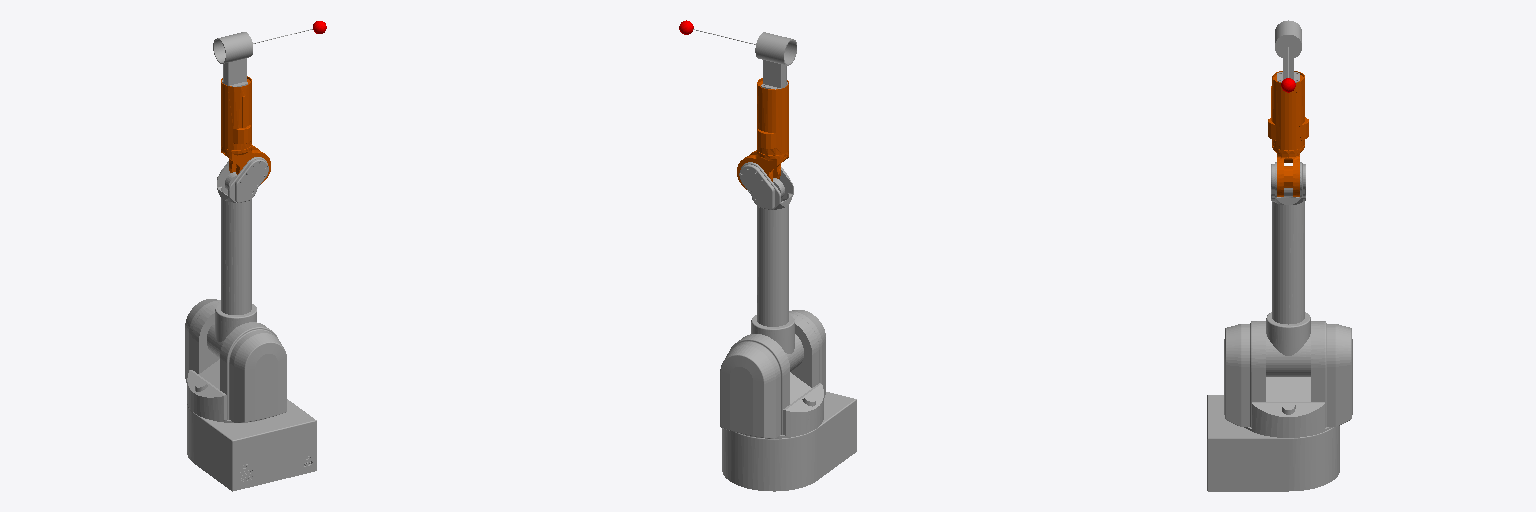
--- Render facts (derived) ---
The picture shows the robot from 3 angles, left to right: view 1: azimuth 30°, elevation 25°; view 2: azimuth 150°, elevation 25°; view 3: azimuth 270°, elevation 25°; orthographic projection.
Robot: wam — 63 links, 62 joints (4 revolute, 54 continuous, 4 fixed); root link world; default pose: every joint at zero.
Visible links, largest first — view 1: shoulder_yaw_link, base_link, upper_arm_link, forearm_link, cup, shoulder_pitch_link; view 2: shoulder_yaw_link, base_link, upper_arm_link, forearm_link, cup, shoulder_pitch_link; view 3: shoulder_yaw_link, base_link, upper_arm_link, forearm_link, shoulder_pitch_link, cup.
Boxes of the visible links, box(x1,y1,x2,y2) form: shoulder_yaw_link: box(185, 299, 286, 422); base_link: box(187, 399, 316, 491); upper_arm_link: box(217, 157, 268, 314); forearm_link: box(221, 76, 270, 183); cup: box(213, 32, 252, 86); shoulder_pitch_link: box(207, 304, 256, 358); shoulder_yaw_link: box(720, 310, 825, 438); base_link: box(722, 392, 856, 491); upper_arm_link: box(739, 162, 793, 326); forearm_link: box(737, 78, 788, 189); cup: box(755, 32, 796, 89); shoulder_pitch_link: box(751, 315, 803, 371); shoulder_yaw_link: box(1224, 321, 1352, 437); base_link: box(1207, 395, 1339, 491); upper_arm_link: box(1271, 162, 1305, 324); forearm_link: box(1268, 71, 1308, 196); shoulder_pitch_link: box(1266, 312, 1310, 376); cup: box(1275, 20, 1301, 82).
Size in the robot's own frame: 0.4356 by 0.3938 by 1.32 metres.
6 mesh visuals loaded from 6 distinct referenced files (6 OBJ).

robot.urdf — wam:
<?xml version="1.0" ?>
<!-- =================================================================================== -->
<!-- |    This document was autogenerated by xacro from wam7.urdf.xacro                | -->
<!-- |    EDITING THIS FILE BY HAND IS NOT RECOMMENDED                                 | -->
<!-- =================================================================================== -->
<robot name="wam" xmlns:xacro="http://www.ros.org/wiki/xacro">

    <!-- Materials -->
    <material name="WAMGrey">
        <color rgba="0.7 0.7 0.7 1.0"/>
    </material>

    <!-- Root link is in the world frame-->
    <link name="world"/>
    <joint name="wam_fixed_joint" type="fixed">
        <parent link="world"/>
        <child link="base_link"/>
        <origin rpy="0 0 1.5707" xyz="0.0 0.0 0.0"/>
    </joint>

    <link name="base_link">
        <inertial>
            <origin rpy="1.57 0 0" xyz="0.0 0.0 0.84"/>
            <mass value="1"/>
            <inertia ixx="0.1" ixy="0" ixz="0" iyy="0.1" iyz="0" izz="0.1"/>
        </inertial>
        <visual>
            <material name="WAMGrey">
                <color rgba="0.7 0.7 0.7 0.0"/>
            </material>
            <geometry>
                <mesh filename="sw_meshes/base_link_fine.obj"/>
            </geometry>
        </visual>
        <collision>
            <geometry>
                <mesh filename="sw_meshes/base_link_convex.obj"/>
            </geometry>
        </collision>
    </link>
    <joint name="R_SFE" type="revolute">
        <parent link="base_link"/>
        <child link="shoulder_yaw_link"/>
        <origin rpy="0 0 -1.57079632679" xyz="0 0 0.346"/>
        <axis xyz="0 0 1"/>
        <limit effort="60" lower="-2.6" upper="2.6" velocity="2.0"/>
        <dynamics damping="0.9" friction="0"/>
    </joint>

    <link name="shoulder_yaw_link">
        <inertial>
            <origin xyz="-.00443422 -.00066489 -0.1289039 "/>
            <mass value="5.0"/>
            <inertia ixx=".13488033" ixy="-0.00012485" ixz="0.00213041" iyy=".09046330" iyz="-.00068555"
                     izz=".11328369"/>
        </inertial>
        <visual>
            <material name="WAMGrey">
                <color rgba="0.7 0.7 0.7 1.0"/>
            </material>
            <geometry>
                <mesh filename="sw_meshes/shoulder_link_fine.obj"/>
            </geometry>
        </visual>
        <collision>
            <geometry>
                <mesh filename="sw_meshes/shoulder_link_convex_decomposition.obj"/>
            </geometry>
        </collision>
    </link>

    <joint name="R_SAA" type="revolute">
        <parent link="shoulder_yaw_link"/>
        <child link="shoulder_pitch_link"/>
        <origin rpy="-1.57079632679 0 0" xyz="0 0 0"/>
        <axis xyz="0 0 1"/>
        <limit effort="60" lower="-2.1" upper="2.0" velocity="2.0"/>
        <dynamics damping="0.25" friction="0"/>
    </joint>

    <link name="shoulder_pitch_link">
        <visual>
            <material name="WAMGrey">
                <color rgba="0.7 0.7 0.7 1.0"/>
            </material>
            <geometry>
                <mesh filename="sw_meshes/shoulder_pitch_link_fine.obj"/>
            </geometry>
        </visual>
        <inertial>
            <origin xyz="-.00236981 -.01542114 .03105614 "/>
            <mass value="3.87493756"/>
            <inertia ixx="0.02140958" ixy="-0.00002461" ixz="0.00027172" iyy="0.015589060" iyz="0.0018192"
                     izz="0.01377875"/>
        </inertial>
        <collision>
            <geometry>
                <mesh filename="sw_meshes/shoulder_pitch_link_convex.obj"/>
            </geometry>
        </collision>
    </link>

    <joint name="R_HR" type="revolute">
        <parent link="shoulder_pitch_link"/>
        <child link="upper_arm_link"/>
        <origin rpy="1.57079632679 0 0" xyz="0 0 0"/>
        <axis xyz="0 0 1"/>
        <limit effort="45" lower="-2.8" upper="2.8" velocity="2.0"/>
        <dynamics damping="0.75" friction="0"/>
    </joint>

    <link name="upper_arm_link">
        <inertial>
            <origin xyz="0.00683258580000000 0.000033090000000 0.392492300000000"/>
            <mass value="2.20228141"/>
            <inertia ixx=".05911077" ixy="-0.00000738" ixz="-0.00249612" iyy="0.05927043" iyz="0.00001767"
                     izz="0.0032455"/>
        </inertial>
        <visual>
            <material name="WAMGrey">
                <color rgba="0.7 0.7 0.7 1.0"/>
            </material>
            <geometry>
                <mesh filename="sw_meshes/upper_arm_link_fine.obj"/>
            </geometry>
        </visual>
        <collision>
            <geometry>
                <mesh filename="sw_meshes/upper_arm_link_convex_decomposition.obj"/>
            </geometry>
        </collision>
    </link>

    <joint name="R_EB" type="revolute">
        <parent link="upper_arm_link"/>
        <child link="forearm_link"/>
        <origin rpy="-1.57079632679 0 0" xyz="0.045 0 0.55"/>
        <axis xyz="0 0 1"/>
        <limit effort="30" lower="-0.9" upper="3.2" velocity="2.00"/>
        <dynamics damping="0.4" friction="0"/>
    </joint>

    <link name="forearm_link">
        <inertial>
            <mass value="1.06513649"/>
            <origin rpy="1.5707 0 0" xyz="0.01095471 0.14053900 -0.00002567"/>
            <inertia ixx="0.03952350" ixy="0.00000189" ixz="0.00003117" iyy="0.04008214" iyz="0.00000131"
                     izz="0.00210299"/>
        </inertial>
        <visual>
            <origin rpy="0 0 0" xyz="0 0 0"/>
            <geometry name="link_j4_visual">
                <mesh filename="sw_meshes/wam4.obj"/>
            </geometry>
        </visual>
        <collision>
            <origin rpy="1.5707 0 0" xyz="0 0 0"/>
            <geometry name="link_j4_collision">
                <mesh filename="sw_meshes/wam4.obj"/>
            </geometry>
            <contact_coefficients kd="1000.0" kp="1000.0" mu="0"/>
        </collision>
    </link>

    <joint name="FOREARM_TO_CUP" type="fixed">
        <parent link="forearm_link"/>
        <child link="cup"/>
        <origin xyz="-0.1 -0.3225 0.0"/>
    </joint>

    <link name="cup">
        <inertial>
            <mass value="0.132"/>
            <origin xyz="-3.75236e-10 8.27811e-05 0.0947015" rpy="0.0 -0.0199993 0.0"/>
            <inertia ixx="0.000285643" ixy="0.0" ixz="0.0" iyy="0.000270485" iyz="0.0" izz="9.65696e-05"/>
        </inertial>
        <visual>
            <origin rpy="1.5707 -1.5707 0" xyz="0. 0. 0."/>
            <material name="WAMGrey">
                <color rgba="0.7 0.7 0.7 1.0"/>
            </material>
            <geometry name="cup_visual">
                <mesh filename="sw_meshes/cup.obj" scale="0.001 0.001 0.001"/>
            </geometry>
        </visual>
        <collision>
            <origin rpy="1.5707 -1.5707 0" xyz="0 0 0"/>
            <geometry name="cup_collision">
                <mesh filename="sw_meshes/cup.obj" scale="0.001 0.001 0.001"/>
            </geometry>
        </collision>
    </link>

    <joint name="attach" type="fixed">
        <origin xyz="0.09 -0.06 0.0" rpy="0 -1.5707 0"/>
        <parent link="cup"/>
        <child link="R0"/>
    </joint>

    <link name="R0">
        <inertial>
            <mass value="0.0003"/>
            <origin xyz="0. 0. -8.600E-03" rpy="0. 0. 0."/>
            <inertia ixx="7.471E-09" ixy="0.0" ixz="0.0" iyy="7.471E-09" iyz="0.0" izz="1.500E-10"/>
        </inertial>
        <visual>
            <material name="WAMGrey">
                <color rgba="0.7 0.7 0.7 1.0"/>
            </material>
            <origin xyz="0.0 0.0 -8.600E-03"/>
            <geometry>
                <cylinder radius="0.001" length="0.0172"/>
            </geometry>
        </visual>
        <collision>
            <origin xyz="0.0 0.0 -8.600E-03"/>
            <geometry>
                <cylinder radius="0.001" length="0.0172"/>
            </geometry>
        </collision>
    </link>
    <joint name="R0_1_FIX" type="continuous">
        <origin xyz="0. 0.0 -8.600E-03" rpy="0 0 0"/>
        <axis xyz="1 0 0"/>
        <parent link="R0"/>
        <child link="R0_FIX"/>
    </joint>
    <link name="R0_FIX"/>
    <joint name="R0_1" type="continuous">
        <origin xyz="0. 0.0 0." rpy="0 0 0"/>
        <axis xyz="0 1 0"/>
        <parent link="R0_FIX"/>
        <child link="R1"/>
    </joint>
    <link name="R1">
        <inertial>
            <mass value="0.0003"/>
            <origin xyz="0. 0. -8.600E-03" rpy="0. 0. 0."/>
            <inertia ixx="7.471E-09" ixy="0.0" ixz="0.0" iyy="7.471E-09" iyz="0.0" izz="1.500E-10"/>
        </inertial>
        <visual>
            <material name="WAMGrey">
                <color rgba="0.7 0.7 0.7 1.0"/>
            </material>
            <origin xyz="0.0 0.0 -8.600E-03"/>
            <geometry>
                <cylinder radius="0.001" length="0.0172"/>
            </geometry>
        </visual>
        <collision>
            <origin xyz="0.0 0.0 -8.600E-03"/>
            <geometry>
                <cylinder radius="0.001" length="0.0172"/>
            </geometry>
        </collision>
    </link>
    <joint name="R1_2_FIX" type="continuous">
        <origin xyz="0. 0.0 -8.600E-03" rpy="0 0 0"/>
        <axis xyz="1 0 0"/>
        <parent link="R1"/>
        <child link="R1_FIX"/>
    </joint>
    <link name="R1_FIX"/>
    <joint name="R1_2" type="continuous">
        <origin xyz="0. 0.0 0." rpy="0 0 0"/>
        <axis xyz="0 1 0"/>
        <parent link="R1_FIX"/>
        <child link="R2"/>
    </joint>
    <link name="R2">
        <inertial>
            <mass value="0.0003"/>
            <origin xyz="0. 0. -8.600E-03" rpy="0. 0. 0."/>
            <inertia ixx="7.471E-09" ixy="0.0" ixz="0.0" iyy="7.471E-09" iyz="0.0" izz="1.500E-10"/>
        </inertial>
        <visual>
            <material name="WAMGrey">
                <color rgba="0.7 0.7 0.7 1.0"/>
            </material>
            <origin xyz="0.0 0.0 -8.600E-03"/>
            <geometry>
                <cylinder radius="0.001" length="0.0172"/>
            </geometry>
        </visual>
        <collision>
            <origin xyz="0.0 0.0 -8.600E-03"/>
            <geometry>
                <cylinder radius="0.001" length="0.0172"/>
            </geometry>
        </collision>
    </link>
    <joint name="R2_3_FIX" type="continuous">
        <origin xyz="0. 0.0 -8.600E-03" rpy="0 0 0"/>
        <axis xyz="1 0 0"/>
        <parent link="R2"/>
        <child link="R2_FIX"/>
    </joint>
    <link name="R2_FIX"/>
    <joint name="R2_3" type="continuous">
        <origin xyz="0. 0.0 0." rpy="0 0 0"/>
        <axis xyz="0 1 0"/>
        <parent link="R2_FIX"/>
        <child link="R3"/>
    </joint>
    <link name="R3">
        <inertial>
            <mass value="0.0003"/>
            <origin xyz="0. 0. -8.600E-03" rpy="0. 0. 0."/>
            <inertia ixx="7.471E-09" ixy="0.0" ixz="0.0" iyy="7.471E-09" iyz="0.0" izz="1.500E-10"/>
        </inertial>
        <visual>
            <material name="WAMGrey">
                <color rgba="0.7 0.7 0.7 1.0"/>
            </material>
            <origin xyz="0.0 0.0 -8.600E-03"/>
            <geometry>
                <cylinder radius="0.001" length="0.0172"/>
            </geometry>
        </visual>
        <collision>
            <origin xyz="0.0 0.0 -8.600E-03"/>
            <geometry>
                <cylinder radius="0.001" length="0.0172"/>
            </geometry>
        </collision>
    </link>
    <joint name="R3_4_FIX" type="continuous">
        <origin xyz="0. 0.0 -8.600E-03" rpy="0 0 0"/>
        <axis xyz="1 0 0"/>
        <parent link="R3"/>
        <child link="R3_FIX"/>
    </joint>
    <link name="R3_FIX"/>
    <joint name="R3_4" type="continuous">
        <origin xyz="0. 0.0 0." rpy="0 0 0"/>
        <axis xyz="0 1 0"/>
        <parent link="R3_FIX"/>
        <child link="R4"/>
    </joint>
    <link name="R4">
        <inertial>
            <mass value="0.0003"/>
            <origin xyz="0. 0. -8.600E-03" rpy="0. 0. 0."/>
            <inertia ixx="7.471E-09" ixy="0.0" ixz="0.0" iyy="7.471E-09" iyz="0.0" izz="1.500E-10"/>
        </inertial>
        <visual>
            <material name="WAMGrey">
                <color rgba="0.7 0.7 0.7 1.0"/>
            </material>
            <origin xyz="0.0 0.0 -8.600E-03"/>
            <geometry>
                <cylinder radius="0.001" length="0.0172"/>
            </geometry>
        </visual>
        <collision>
            <origin xyz="0.0 0.0 -8.600E-03"/>
            <geometry>
                <cylinder radius="0.001" length="0.0172"/>
            </geometry>
        </collision>
    </link>
    <joint name="R4_5_FIX" type="continuous">
        <origin xyz="0. 0.0 -8.600E-03" rpy="0 0 0"/>
        <axis xyz="1 0 0"/>
        <parent link="R4"/>
        <child link="R4_FIX"/>
    </joint>
    <link name="R4_FIX"/>
    <joint name="R4_5" type="continuous">
        <origin xyz="0. 0.0 0." rpy="0 0 0"/>
        <axis xyz="0 1 0"/>
        <parent link="R4_FIX"/>
        <child link="R5"/>
    </joint>
    <link name="R5">
        <inertial>
            <mass value="0.0003"/>
            <origin xyz="0. 0. -8.600E-03" rpy="0. 0. 0."/>
            <inertia ixx="7.471E-09" ixy="0.0" ixz="0.0" iyy="7.471E-09" iyz="0.0" izz="1.500E-10"/>
        </inertial>
        <visual>
            <material name="WAMGrey">
                <color rgba="0.7 0.7 0.7 1.0"/>
            </material>
            <origin xyz="0.0 0.0 -8.600E-03"/>
            <geometry>
                <cylinder radius="0.001" length="0.0172"/>
            </geometry>
        </visual>
        <collision>
            <origin xyz="0.0 0.0 -8.600E-03"/>
            <geometry>
                <cylinder radius="0.001" length="0.0172"/>
            </geometry>
        </collision>
    </link>
    <joint name="R5_6_FIX" type="continuous">
        <origin xyz="0. 0.0 -8.600E-03" rpy="0 0 0"/>
        <axis xyz="1 0 0"/>
        <parent link="R5"/>
        <child link="R5_FIX"/>
    </joint>
    <link name="R5_FIX"/>
    <joint name="R5_6" type="continuous">
        <origin xyz="0. 0.0 0." rpy="0 0 0"/>
        <axis xyz="0 1 0"/>
        <parent link="R5_FIX"/>
        <child link="R6"/>
    </joint>
    <link name="R6">
        <inertial>
            <mass value="0.0003"/>
            <origin xyz="0. 0. -8.600E-03" rpy="0. 0. 0."/>
            <inertia ixx="7.471E-09" ixy="0.0" ixz="0.0" iyy="7.471E-09" iyz="0.0" izz="1.500E-10"/>
        </inertial>
        <visual>
            <material name="WAMGrey">
                <color rgba="0.7 0.7 0.7 1.0"/>
            </material>
            <origin xyz="0.0 0.0 -8.600E-03"/>
            <geometry>
                <cylinder radius="0.001" length="0.0172"/>
            </geometry>
        </visual>
        <collision>
            <origin xyz="0.0 0.0 -8.600E-03"/>
            <geometry>
                <cylinder radius="0.001" length="0.0172"/>
            </geometry>
        </collision>
    </link>
    <joint name="R6_7_FIX" type="continuous">
        <origin xyz="0. 0.0 -8.600E-03" rpy="0 0 0"/>
        <axis xyz="1 0 0"/>
        <parent link="R6"/>
        <child link="R6_FIX"/>
    </joint>
    <link name="R6_FIX"/>
    <joint name="R6_7" type="continuous">
        <origin xyz="0. 0.0 0." rpy="0 0 0"/>
        <axis xyz="0 1 0"/>
        <parent link="R6_FIX"/>
        <child link="R7"/>
    </joint>
    <link name="R7">
        <inertial>
            <mass value="0.0003"/>
            <origin xyz="0. 0. -8.600E-03" rpy="0. 0. 0."/>
            <inertia ixx="7.471E-09" ixy="0.0" ixz="0.0" iyy="7.471E-09" iyz="0.0" izz="1.500E-10"/>
        </inertial>
        <visual>
            <material name="WAMGrey">
                <color rgba="0.7 0.7 0.7 1.0"/>
            </material>
            <origin xyz="0.0 0.0 -8.600E-03"/>
            <geometry>
                <cylinder radius="0.001" length="0.0172"/>
            </geometry>
        </visual>
        <collision>
            <origin xyz="0.0 0.0 -8.600E-03"/>
            <geometry>
                <cylinder radius="0.001" length="0.0172"/>
            </geometry>
        </collision>
    </link>
    <joint name="R7_8_FIX" type="continuous">
        <origin xyz="0. 0.0 -8.600E-03" rpy="0 0 0"/>
        <axis xyz="1 0 0"/>
        <parent link="R7"/>
        <child link="R7_FIX"/>
    </joint>
    <link name="R7_FIX"/>
    <joint name="R7_8" type="continuous">
        <origin xyz="0. 0.0 0." rpy="0 0 0"/>
        <axis xyz="0 1 0"/>
        <parent link="R7_FIX"/>
        <child link="R8"/>
    </joint>
    <link name="R8">
        <inertial>
            <mass value="0.0003"/>
            <origin xyz="0. 0. -8.600E-03" rpy="0. 0. 0."/>
            <inertia ixx="7.471E-09" ixy="0.0" ixz="0.0" iyy="7.471E-09" iyz="0.0" izz="1.500E-10"/>
        </inertial>
        <visual>
            <material name="WAMGrey">
                <color rgba="0.7 0.7 0.7 1.0"/>
            </material>
            <origin xyz="0.0 0.0 -8.600E-03"/>
            <geometry>
                <cylinder radius="0.001" length="0.0172"/>
            </geometry>
        </visual>
        <collision>
            <origin xyz="0.0 0.0 -8.600E-03"/>
            <geometry>
                <cylinder radius="0.001" length="0.0172"/>
            </geometry>
        </collision>
    </link>
    <joint name="R8_9_FIX" type="continuous">
        <origin xyz="0. 0.0 -8.600E-03" rpy="0 0 0"/>
        <axis xyz="1 0 0"/>
        <parent link="R8"/>
        <child link="R8_FIX"/>
    </joint>
    <link name="R8_FIX"/>
    <joint name="R8_9" type="continuous">
        <origin xyz="0. 0.0 0." rpy="0 0 0"/>
        <axis xyz="0 1 0"/>
        <parent link="R8_FIX"/>
        <child link="R9"/>
    </joint>
    <link name="R9">
        <inertial>
            <mass value="0.0003"/>
            <origin xyz="0. 0. -8.600E-03" rpy="0. 0. 0."/>
            <inertia ixx="7.471E-09" ixy="0.0" ixz="0.0" iyy="7.471E-09" iyz="0.0" izz="1.500E-10"/>
        </inertial>
        <visual>
            <material name="WAMGrey">
                <color rgba="0.7 0.7 0.7 1.0"/>
            </material>
            <origin xyz="0.0 0.0 -8.600E-03"/>
            <geometry>
                <cylinder radius="0.001" length="0.0172"/>
            </geometry>
        </visual>
        <collision>
            <origin xyz="0.0 0.0 -8.600E-03"/>
            <geometry>
                <cylinder radius="0.001" length="0.0172"/>
            </geometry>
        </collision>
    </link>
    <joint name="R9_10_FIX" type="continuous">
        <origin xyz="0. 0.0 -8.600E-03" rpy="0 0 0"/>
        <axis xyz="1 0 0"/>
        <parent link="R9"/>
        <child link="R9_FIX"/>
    </joint>
    <link name="R9_FIX"/>
    <joint name="R9_10" type="continuous">
        <origin xyz="0. 0.0 0." rpy="0 0 0"/>
        <axis xyz="0 1 0"/>
        <parent link="R9_FIX"/>
        <child link="R10"/>
    </joint>
    <link name="R10">
        <inertial>
            <mass value="0.0003"/>
            <origin xyz="0. 0. -8.600E-03" rpy="0. 0. 0."/>
            <inertia ixx="7.471E-09" ixy="0.0" ixz="0.0" iyy="7.471E-09" iyz="0.0" izz="1.500E-10"/>
        </inertial>
        <visual>
            <material name="WAMGrey">
                <color rgba="0.7 0.7 0.7 1.0"/>
            </material>
            <origin xyz="0.0 0.0 -8.600E-03"/>
            <geometry>
                <cylinder radius="0.001" length="0.0172"/>
            </geometry>
        </visual>
        <collision>
            <origin xyz="0.0 0.0 -8.600E-03"/>
            <geometry>
                <cylinder radius="0.001" length="0.0172"/>
            </geometry>
        </collision>
    </link>
    <joint name="R10_11_FIX" type="continuous">
        <origin xyz="0. 0.0 -8.600E-03" rpy="0 0 0"/>
        <axis xyz="1 0 0"/>
        <parent link="R10"/>
        <child link="R10_FIX"/>
    </joint>
    <link name="R10_FIX"/>
    <joint name="R10_11" type="continuous">
        <origin xyz="0. 0.0 0." rpy="0 0 0"/>
        <axis xyz="0 1 0"/>
        <parent link="R10_FIX"/>
        <child link="R11"/>
    </joint>
    <link name="R11">
        <inertial>
            <mass value="0.0003"/>
            <origin xyz="0. 0. -8.600E-03" rpy="0. 0. 0."/>
            <inertia ixx="7.471E-09" ixy="0.0" ixz="0.0" iyy="7.471E-09" iyz="0.0" izz="1.500E-10"/>
        </inertial>
        <visual>
            <material name="WAMGrey">
                <color rgba="0.7 0.7 0.7 1.0"/>
            </material>
            <origin xyz="0.0 0.0 -8.600E-03"/>
            <geometry>
                <cylinder radius="0.001" length="0.0172"/>
            </geometry>
        </visual>
        <collision>
            <origin xyz="0.0 0.0 -8.600E-03"/>
            <geometry>
                <cylinder radius="0.001" length="0.0172"/>
            </geometry>
        </collision>
    </link>
    <joint name="R11_12_FIX" type="continuous">
        <origin xyz="0. 0.0 -8.600E-03" rpy="0 0 0"/>
        <axis xyz="1 0 0"/>
        <parent link="R11"/>
        <child link="R11_FIX"/>
    </joint>
    <link name="R11_FIX"/>
    <joint name="R11_12" type="continuous">
        <origin xyz="0. 0.0 0." rpy="0 0 0"/>
        <axis xyz="0 1 0"/>
        <parent link="R11_FIX"/>
        <child link="R12"/>
    </joint>
    <link name="R12">
        <inertial>
            <mass value="0.0003"/>
            <origin xyz="0. 0. -8.600E-03" rpy="0. 0. 0."/>
            <inertia ixx="7.471E-09" ixy="0.0" ixz="0.0" iyy="7.471E-09" iyz="0.0" izz="1.500E-10"/>
        </inertial>
        <visual>
            <material name="WAMGrey">
                <color rgba="0.7 0.7 0.7 1.0"/>
            </material>
            <origin xyz="0.0 0.0 -8.600E-03"/>
            <geometry>
                <cylinder radius="0.001" length="0.0172"/>
            </geometry>
        </visual>
        <collision>
            <origin xyz="0.0 0.0 -8.600E-03"/>
            <geometry>
                <cylinder radius="0.001" length="0.0172"/>
            </geometry>
        </collision>
    </link>
    <joint name="R12_13_FIX" type="continuous">
        <origin xyz="0. 0.0 -8.600E-03" rpy="0 0 0"/>
        <axis xyz="1 0 0"/>
        <parent link="R12"/>
        <child link="R12_FIX"/>
    </joint>
    <link name="R12_FIX"/>
    <joint name="R12_13" type="continuous">
        <origin xyz="0. 0.0 0." rpy="0 0 0"/>
        <axis xyz="0 1 0"/>
        <parent link="R12_FIX"/>
        <child link="R13"/>
    </joint>
    <link name="R13">
        <inertial>
            <mass value="0.0003"/>
            <origin xyz="0. 0. -8.600E-03" rpy="0. 0. 0."/>
            <inertia ixx="7.471E-09" ixy="0.0" ixz="0.0" iyy="7.471E-09" iyz="0.0" izz="1.500E-10"/>
        </inertial>
        <visual>
            <material name="WAMGrey">
                <color rgba="0.7 0.7 0.7 1.0"/>
            </material>
            <origin xyz="0.0 0.0 -8.600E-03"/>
            <geometry>
                <cylinder radius="0.001" length="0.0172"/>
            </geometry>
        </visual>
        <collision>
            <origin xyz="0.0 0.0 -8.600E-03"/>
            <geometry>
                <cylinder radius="0.001" length="0.0172"/>
            </geometry>
        </collision>
    </link>
    <joint name="R13_14_FIX" type="continuous">
        <origin xyz="0. 0.0 -8.600E-03" rpy="0 0 0"/>
        <axis xyz="1 0 0"/>
        <parent link="R13"/>
        <child link="R13_FIX"/>
    </joint>
    <link name="R13_FIX"/>
    <joint name="R13_14" type="continuous">
        <origin xyz="0. 0.0 0." rpy="0 0 0"/>
        <axis xyz="0 1 0"/>
        <parent link="R13_FIX"/>
        <child link="R14"/>
    </joint>
    <link name="R14">
        <inertial>
            <mass value="0.0003"/>
            <origin xyz="0. 0. -8.600E-03" rpy="0. 0. 0."/>
            <inertia ixx="7.471E-09" ixy="0.0" ixz="0.0" iyy="7.471E-09" iyz="0.0" izz="1.500E-10"/>
        </inertial>
        <visual>
            <material name="WAMGrey">
                <color rgba="0.7 0.7 0.7 1.0"/>
            </material>
            <origin xyz="0.0 0.0 -8.600E-03"/>
            <geometry>
                <cylinder radius="0.001" length="0.0172"/>
            </geometry>
        </visual>
        <collision>
            <origin xyz="0.0 0.0 -8.600E-03"/>
            <geometry>
                <cylinder radius="0.001" length="0.0172"/>
            </geometry>
        </collision>
    </link>
    <joint name="R14_15_FIX" type="continuous">
        <origin xyz="0. 0.0 -8.600E-03" rpy="0 0 0"/>
        <axis xyz="1 0 0"/>
        <parent link="R14"/>
        <child link="R14_FIX"/>
    </joint>
    <link name="R14_FIX"/>
    <joint name="R14_15" type="continuous">
        <origin xyz="0. 0.0 0." rpy="0 0 0"/>
        <axis xyz="0 1 0"/>
        <parent link="R14_FIX"/>
        <child link="R15"/>
    </joint>
    <link name="R15">
        <inertial>
            <mass value="0.0003"/>
            <origin xyz="0. 0. -8.600E-03" rpy="0. 0. 0."/>
            <inertia ixx="7.471E-09" ixy="0.0" ixz="0.0" iyy="7.471E-09" iyz="0.0" izz="1.500E-10"/>
        </inertial>
        <visual>
            <material name="WAMGrey">
                <color rgba="0.7 0.7 0.7 1.0"/>
            </material>
            <origin xyz="0.0 0.0 -8.600E-03"/>
            <geometry>
                <cylinder radius="0.001" length="0.0172"/>
            </geometry>
        </visual>
        <collision>
            <origin xyz="0.0 0.0 -8.600E-03"/>
            <geometry>
                <cylinder radius="0.001" length="0.0172"/>
            </geometry>
        </collision>
    </link>
    <joint name="R15_16_FIX" type="continuous">
        <origin xyz="0. 0.0 -8.600E-03" rpy="0 0 0"/>
        <axis xyz="1 0 0"/>
        <parent link="R15"/>
        <child link="R15_FIX"/>
    </joint>
    <link name="R15_FIX"/>
    <joint name="R15_16" type="continuous">
        <origin xyz="0. 0.0 0." rpy="0 0 0"/>
        <axis xyz="0 1 0"/>
        <parent link="R15_FIX"/>
        <child link="R16"/>
    </joint>
    <link name="R16">
        <inertial>
            <mass value="0.0003"/>
            <origin xyz="0. 0. -8.600E-03" rpy="0. 0. 0."/>
            <inertia ixx="7.471E-09" ixy="0.0" ixz="0.0" iyy="7.471E-09" iyz="0.0" izz="1.500E-10"/>
        </inertial>
        <visual>
            <material name="WAMGrey">
                <color rgba="0.7 0.7 0.7 1.0"/>
            </material>
            <origin xyz="0.0 0.0 -8.600E-03"/>
            <geometry>
                <cylinder radius="0.001" length="0.0172"/>
            </geometry>
        </visual>
        <collision>
            <origin xyz="0.0 0.0 -8.600E-03"/>
            <geometry>
                <cylinder radius="0.001" length="0.0172"/>
            </geometry>
        </collision>
    </link>
    <joint name="R16_17_FIX" type="continuous">
        <origin xyz="0. 0.0 -8.600E-03" rpy="0 0 0"/>
        <axis xyz="1 0 0"/>
        <parent link="R16"/>
        <child link="R16_FIX"/>
    </joint>
    <link name="R16_FIX"/>
    <joint name="R16_17" type="continuous">
        <origin xyz="0. 0.0 0." rpy="0 0 0"/>
        <axis xyz="0 1 0"/>
        <parent link="R16_FIX"/>
        <child link="R17"/>
    </joint>
    <link name="R17">
        <inertial>
            <mass value="0.0003"/>
            <origin xyz="0. 0. -8.600E-03" rpy="0. 0. 0."/>
            <inertia ixx="7.471E-09" ixy="0.0" ixz="0.0" iyy="7.471E-09" iyz="0.0" izz="1.500E-10"/>
        </inertial>
        <visual>
            <material name="WAMGrey">
                <color rgba="0.7 0.7 0.7 1.0"/>
            </material>
            <origin xyz="0.0 0.0 -8.600E-03"/>
            <geometry>
                <cylinder radius="0.001" length="0.0172"/>
            </geometry>
        </visual>
        <collision>
            <origin xyz="0.0 0.0 -8.600E-03"/>
            <geometry>
                <cylinder radius="0.001" length="0.0172"/>
            </geometry>
        </collision>
    </link>
    <joint name="R17_18_FIX" type="continuous">
        <origin xyz="0. 0.0 -8.600E-03" rpy="0 0 0"/>
        <axis xyz="1 0 0"/>
        <parent link="R17"/>
        <child link="R17_FIX"/>
    </joint>
    <link name="R17_FIX"/>
    <joint name="R17_18" type="continuous">
        <origin xyz="0. 0.0 0." rpy="0 0 0"/>
        <axis xyz="0 1 0"/>
        <parent link="R17_FIX"/>
        <child link="R18"/>
    </joint>
    <link name="R18">
        <inertial>
            <mass value="0.0003"/>
            <origin xyz="0. 0. -8.600E-03" rpy="0. 0. 0."/>
            <inertia ixx="7.471E-09" ixy="0.0" ixz="0.0" iyy="7.471E-09" iyz="0.0" izz="1.500E-10"/>
        </inertial>
        <visual>
            <material name="WAMGrey">
                <color rgba="0.7 0.7 0.7 1.0"/>
            </material>
            <origin xyz="0.0 0.0 -8.600E-03"/>
            <geometry>
                <cylinder radius="0.001" length="0.0172"/>
            </geometry>
        </visual>
        <collision>
            <origin xyz="0.0 0.0 -8.600E-03"/>
            <geometry>
                <cylinder radius="0.001" length="0.0172"/>
            </geometry>
        </collision>
    </link>
    <joint name="R18_19_FIX" type="continuous">
        <origin xyz="0. 0.0 -8.600E-03" rpy="0 0 0"/>
        <axis xyz="1 0 0"/>
        <parent link="R18"/>
        <child link="R18_FIX"/>
    </joint>
    <link name="R18_FIX"/>
    <joint name="R18_19" type="continuous">
        <origin xyz="0. 0.0 0." rpy="0 0 0"/>
        <axis xyz="0 1 0"/>
        <parent link="R18_FIX"/>
        <child link="R19"/>
    </joint>
    <link name="R19">
        <inertial>
            <mass value="0.0003"/>
            <origin xyz="0. 0. -8.600E-03" rpy="0. 0. 0."/>
            <inertia ixx="7.471E-09" ixy="0.0" ixz="0.0" iyy="7.471E-09" iyz="0.0" izz="1.500E-10"/>
        </inertial>
        <visual>
            <material name="WAMGrey">
                <color rgba="0.7 0.7 0.7 1.0"/>
            </material>
            <origin xyz="0.0 0.0 -8.600E-03"/>
            <geometry>
                <cylinder radius="0.001" length="0.0172"/>
            </geometry>
        </visual>
        <collision>
            <origin xyz="0.0 0.0 -8.600E-03"/>
            <geometry>
                <cylinder radius="0.001" length="0.0172"/>
            </geometry>
        </collision>
    </link>
    <joint name="R19_20_FIX" type="continuous">
        <origin xyz="0. 0.0 -8.600E-03" rpy="0 0 0"/>
        <axis xyz="1 0 0"/>
        <parent link="R19"/>
        <child link="R19_FIX"/>
    </joint>
    <link name="R19_FIX"/>
    <joint name="R19_20" type="continuous">
        <origin xyz="0. 0.0 0." rpy="0 0 0"/>
        <axis xyz="0 1 0"/>
        <parent link="R19_FIX"/>
        <child link="R20"/>
    </joint>
    <link name="R20">
        <inertial>
            <mass value="0.0003"/>
            <origin xyz="0. 0. -8.600E-03" rpy="0. 0. 0."/>
            <inertia ixx="7.471E-09" ixy="0.0" ixz="0.0" iyy="7.471E-09" iyz="0.0" izz="1.500E-10"/>
        </inertial>
        <visual>
            <material name="WAMGrey">
                <color rgba="0.7 0.7 0.7 1.0"/>
            </material>
            <origin xyz="0.0 0.0 -8.600E-03"/>
            <geometry>
                <cylinder radius="0.001" length="0.0172"/>
            </geometry>
        </visual>
        <collision>
            <origin xyz="0.0 0.0 -8.600E-03"/>
            <geometry>
                <cylinder radius="0.001" length="0.0172"/>
            </geometry>
        </collision>
    </link>
    <joint name="R20_21_FIX" type="continuous">
        <origin xyz="0. 0.0 -8.600E-03" rpy="0 0 0"/>
        <axis xyz="1 0 0"/>
        <parent link="R20"/>
        <child link="R20_FIX"/>
    </joint>
    <link name="R20_FIX"/>
    <joint name="R20_21" type="continuous">
        <origin xyz="0. 0.0 0." rpy="0 0 0"/>
        <axis xyz="0 1 0"/>
        <parent link="R20_FIX"/>
        <child link="R21"/>
    </joint>
    <link name="R21">
        <inertial>
            <mass value="0.0003"/>
            <origin xyz="0. 0. -8.600E-03" rpy="0. 0. 0."/>
            <inertia ixx="7.471E-09" ixy="0.0" ixz="0.0" iyy="7.471E-09" iyz="0.0" izz="1.500E-10"/>
        </inertial>
        <visual>
            <material name="WAMGrey">
                <color rgba="0.7 0.7 0.7 1.0"/>
            </material>
            <origin xyz="0.0 0.0 -8.600E-03"/>
            <geometry>
                <cylinder radius="0.001" length="0.0172"/>
            </geometry>
        </visual>
        <collision>
            <origin xyz="0.0 0.0 -8.600E-03"/>
            <geometry>
                <cylinder radius="0.001" length="0.0172"/>
            </geometry>
        </collision>
    </link>
    <joint name="R21_22_FIX" type="continuous">
        <origin xyz="0. 0.0 -8.600E-03" rpy="0 0 0"/>
        <axis xyz="1 0 0"/>
        <parent link="R21"/>
        <child link="R21_FIX"/>
    </joint>
    <link name="R21_FIX"/>
    <joint name="R21_22" type="continuous">
        <origin xyz="0. 0.0 0." rpy="0 0 0"/>
        <axis xyz="0 1 0"/>
        <parent link="R21_FIX"/>
        <child link="R22"/>
    </joint>
    <link name="R22">
        <inertial>
            <mass value="0.0003"/>
            <origin xyz="0. 0. -8.600E-03" rpy="0. 0. 0."/>
            <inertia ixx="7.471E-09" ixy="0.0" ixz="0.0" iyy="7.471E-09" iyz="0.0" izz="1.500E-10"/>
        </inertial>
        <visual>
            <material name="WAMGrey">
                <color rgba="0.7 0.7 0.7 1.0"/>
            </material>
            <origin xyz="0.0 0.0 -8.600E-03"/>
            <geometry>
                <cylinder radius="0.001" length="0.0172"/>
            </geometry>
        </visual>
        <collision>
            <origin xyz="0.0 0.0 -8.600E-03"/>
            <geometry>
                <cylinder radius="0.001" length="0.0172"/>
            </geometry>
        </collision>
    </link>
    <joint name="R22_23_FIX" type="continuous">
        <origin xyz="0. 0.0 -8.600E-03" rpy="0 0 0"/>
        <axis xyz="1 0 0"/>
        <parent link="R22"/>
        <child link="R22_FIX"/>
    </joint>
    <link name="R22_FIX"/>
    <joint name="R22_23" type="continuous">
        <origin xyz="0. 0.0 0." rpy="0 0 0"/>
        <axis xyz="0 1 0"/>
        <parent link="R22_FIX"/>
        <child link="R23"/>
    </joint>
    <link name="R23">
        <inertial>
            <mass value="0.0003"/>
            <origin xyz="0. 0. -8.600E-03" rpy="0. 0. 0."/>
            <inertia ixx="7.471E-09" ixy="0.0" ixz="0.0" iyy="7.471E-09" iyz="0.0" izz="1.500E-10"/>
        </inertial>
        <visual>
            <material name="WAMGrey">
                <color rgba="0.7 0.7 0.7 1.0"/>
            </material>
            <origin xyz="0.0 0.0 -8.600E-03"/>
            <geometry>
                <cylinder radius="0.001" length="0.0172"/>
            </geometry>
        </visual>
        <collision>
            <origin xyz="0.0 0.0 -8.600E-03"/>
            <geometry>
                <cylinder radius="0.001" length="0.0172"/>
            </geometry>
        </collision>
    </link>
    <joint name="R23_24_FIX" type="continuous">
        <origin xyz="0. 0.0 -8.600E-03" rpy="0 0 0"/>
        <axis xyz="1 0 0"/>
        <parent link="R23"/>
        <child link="R23_FIX"/>
    </joint>
    <link name="R23_FIX"/>
    <joint name="R23_24" type="continuous">
        <origin xyz="0. 0.0 0." rpy="0 0 0"/>
        <axis xyz="0 1 0"/>
        <parent link="R23_FIX"/>
        <child link="R24"/>
    </joint>
    <link name="R24">
        <inertial>
            <mass value="0.0003"/>
            <origin xyz="0. 0. -8.600E-03" rpy="0. 0. 0."/>
            <inertia ixx="7.471E-09" ixy="0.0" ixz="0.0" iyy="7.471E-09" iyz="0.0" izz="1.500E-10"/>
        </inertial>
        <visual>
            <material name="WAMGrey">
                <color rgba="0.7 0.7 0.7 1.0"/>
            </material>
            <origin xyz="0.0 0.0 -8.600E-03"/>
            <geometry>
                <cylinder radius="0.001" length="0.0172"/>
            </geometry>
        </visual>
        <collision>
            <origin xyz="0.0 0.0 -8.600E-03"/>
            <geometry>
                <cylinder radius="0.001" length="0.0172"/>
            </geometry>
        </collision>
    </link>
    <joint name="R24_25_FIX" type="continuous">
        <origin xyz="0. 0.0 -8.600E-03" rpy="0 0 0"/>
        <axis xyz="1 0 0"/>
        <parent link="R24"/>
        <child link="R24_FIX"/>
    </joint>
    <link name="R24_FIX"/>
    <joint name="R24_25" type="continuous">
        <origin xyz="0. 0.0 0." rpy="0 0 0"/>
        <axis xyz="0 1 0"/>
        <parent link="R24_FIX"/>
        <child link="R25"/>
    </joint>
    <link name="R25">
        <inertial>
            <mass value="0.0003"/>
            <origin xyz="0. 0. -8.600E-03" rpy="0. 0. 0."/>
            <inertia ixx="7.471E-09" ixy="0.0" ixz="0.0" iyy="7.471E-09" iyz="0.0" izz="1.500E-10"/>
        </inertial>
        <visual>
            <material name="WAMGrey">
                <color rgba="0.7 0.7 0.7 1.0"/>
            </material>
            <origin xyz="0.0 0.0 -8.600E-03"/>
            <geometry>
                <cylinder radius="0.001" length="0.0172"/>
            </geometry>
        </visual>
        <collision>
            <origin xyz="0.0 0.0 -8.600E-03"/>
            <geometry>
                <cylinder radius="0.001" length="0.0172"/>
            </geometry>
        </collision>
    </link>
    <joint name="R25_26_FIX" type="continuous">
        <origin xyz="0. 0.0 -8.600E-03" rpy="0 0 0"/>
        <axis xyz="1 0 0"/>
        <parent link="R25"/>
        <child link="R25_FIX"/>
    </joint>
    <link name="R25_FIX"/>
    <joint name="R25_26" type="continuous">
        <origin xyz="0. 0.0 0." rpy="0 0 0"/>
        <axis xyz="0 1 0"/>
        <parent link="R25_FIX"/>
        <child link="R26"/>
    </joint>
    <link name="R26">
        <inertial>
            <mass value="0.0003"/>
            <origin xyz="0. 0. -8.600E-03" rpy="0. 0. 0."/>
            <inertia ixx="7.471E-09" ixy="0.0" ixz="0.0" iyy="7.471E-09" iyz="0.0" izz="1.500E-10"/>
        </inertial>
        <visual>
            <material name="WAMGrey">
                <color rgba="0.7 0.7 0.7 1.0"/>
            </material>
            <origin xyz="0.0 0.0 -8.600E-03"/>
            <geometry>
                <cylinder radius="0.001" length="0.0172"/>
            </geometry>
        </visual>
        <collision>
            <origin xyz="0.0 0.0 -8.600E-03"/>
            <geometry>
                <cylinder radius="0.001" length="0.0172"/>
            </geometry>
        </collision>
    </link>
    <joint name="R26_27_FIX" type="continuous">
        <origin xyz="0. 0.0 -8.600E-03" rpy="0 0 0"/>
        <axis xyz="1 0 0"/>
        <parent link="R26"/>
        <child link="R26_FIX"/>
    </joint>
    <link name="R26_FIX"/>
    <joint name="R26_27" type="continuous">
        <origin xyz="0. 0.0 0." rpy="0 0 0"/>
        <axis xyz="0 1 0"/>
        <parent link="R26_FIX"/>
        <child link="R27"/>
    </joint>
    <link name="R27">
        <inertial>
            <mass value="0.0003"/>
            <origin xyz="0. 0. -8.600E-03" rpy="0. 0. 0."/>
            <inertia ixx="7.471E-09" ixy="0.0" ixz="0.0" iyy="7.471E-09" iyz="0.0" izz="1.500E-10"/>
        </inertial>
        <visual>
            <material name="WAMGrey">
                <color rgba="0.7 0.7 0.7 1.0"/>
            </material>
            <origin xyz="0.0 0.0 -8.600E-03"/>
            <geometry>
                <cylinder radius="0.001" length="0.0172"/>
            </geometry>
        </visual>
        <collision>
            <origin xyz="0.0 0.0 -8.600E-03"/>
            <geometry>
                <cylinder radius="0.001" length="0.0172"/>
            </geometry>
        </collision>
    </link>

    <joint name="ROPE_TO_BALL" type="fixed">
        <parent link="R27"/>
        <child link="ball"/>
        <origin xyz="0 0 -8.350E-03" rpy="0 0 0"/>
    </joint>

    <link name="ball">
        <inertial>
            <mass value="0.02"/>
            <inertia ixx="5.3E-06" ixy="0.0" ixz="0.0" iyy="5.3E-06" iyz="0.0" izz="5.3E-06"/>
        </inertial>
        <visual>
            <material name="red">
                <color rgba="1.0 0 0 1."/>
            </material>
            <geometry>
                <sphere radius="0.02"/>
            </geometry>
        </visual>
    </link>

</robot>
